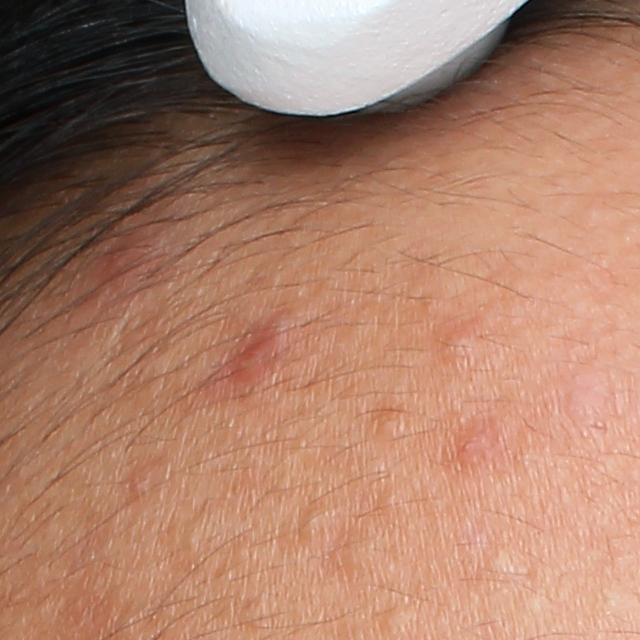comedo: (328, 532, 388, 572), (479, 540, 516, 576), (375, 407, 409, 436), (378, 608, 413, 635), (301, 507, 331, 535)
papule: (221, 309, 293, 375), (433, 316, 496, 368)
